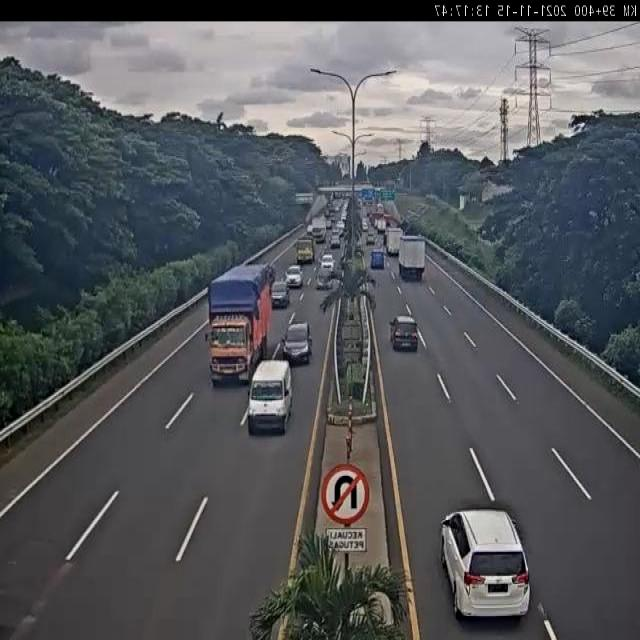Car: (438, 506, 536, 624), (281, 318, 314, 372), (390, 315, 419, 355), (270, 282, 290, 307), (315, 268, 334, 290), (319, 248, 335, 272), (285, 265, 303, 286)
Truck: (204, 260, 274, 394), (398, 232, 426, 280), (295, 236, 314, 265), (386, 227, 405, 255), (370, 250, 386, 270)
Van: (246, 360, 295, 442)
